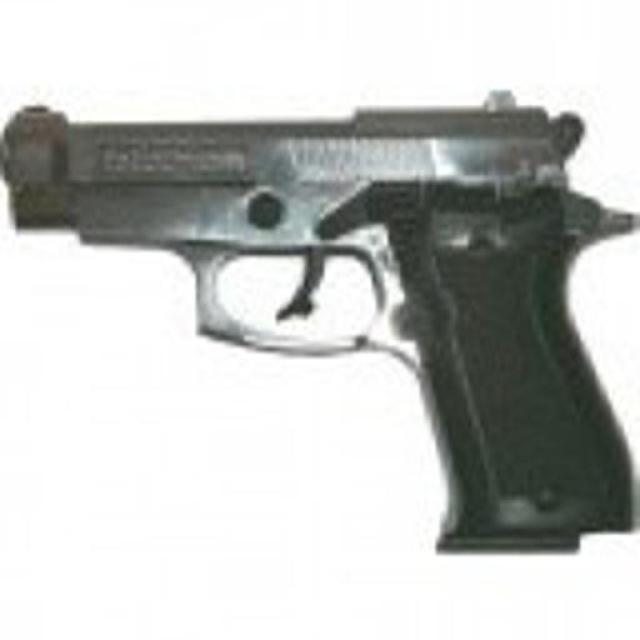pistol: (4, 95, 628, 554)
